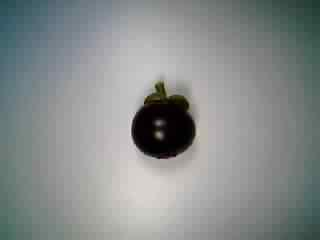mangosteen: (118, 80, 197, 161)
